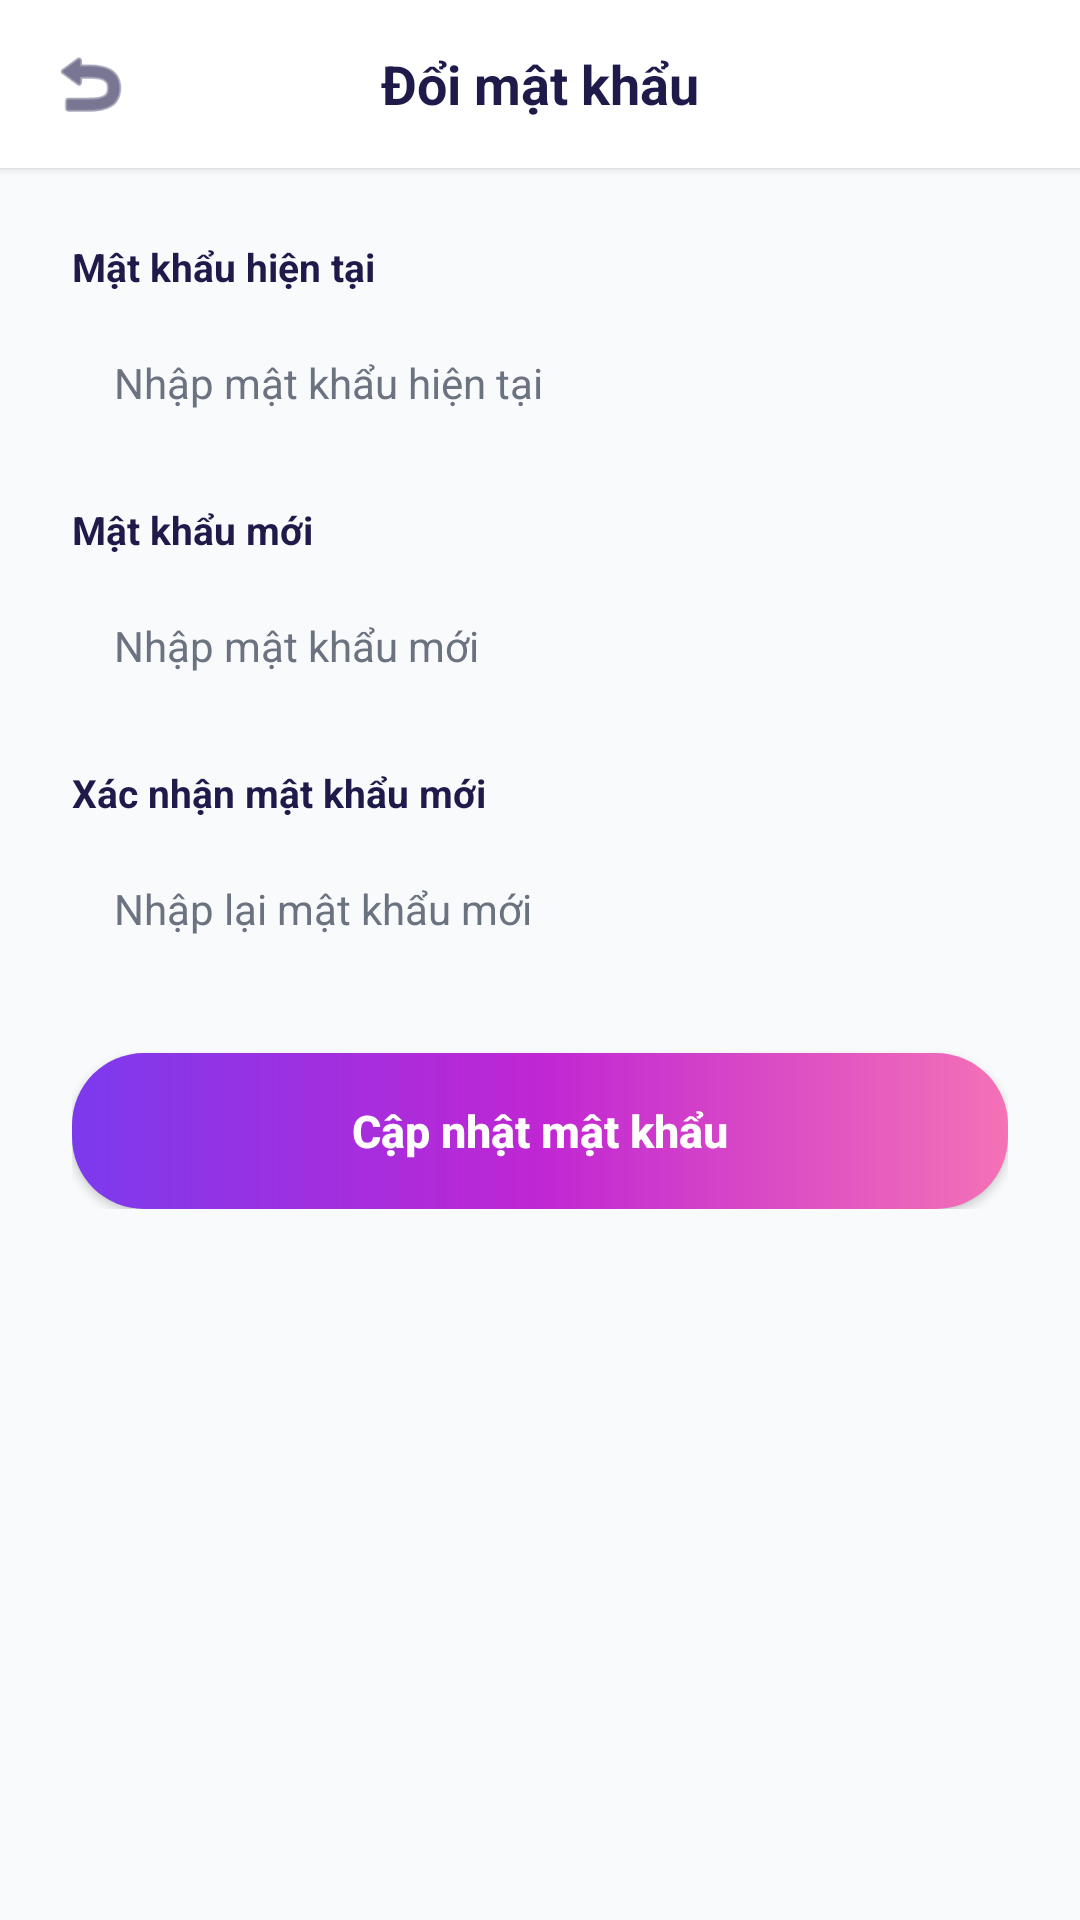

Named icons in this screenshot (1080x1920) and their bounding boxes, (x1,y1,x2,y2):
Quay lại: (61,57,121,112)
